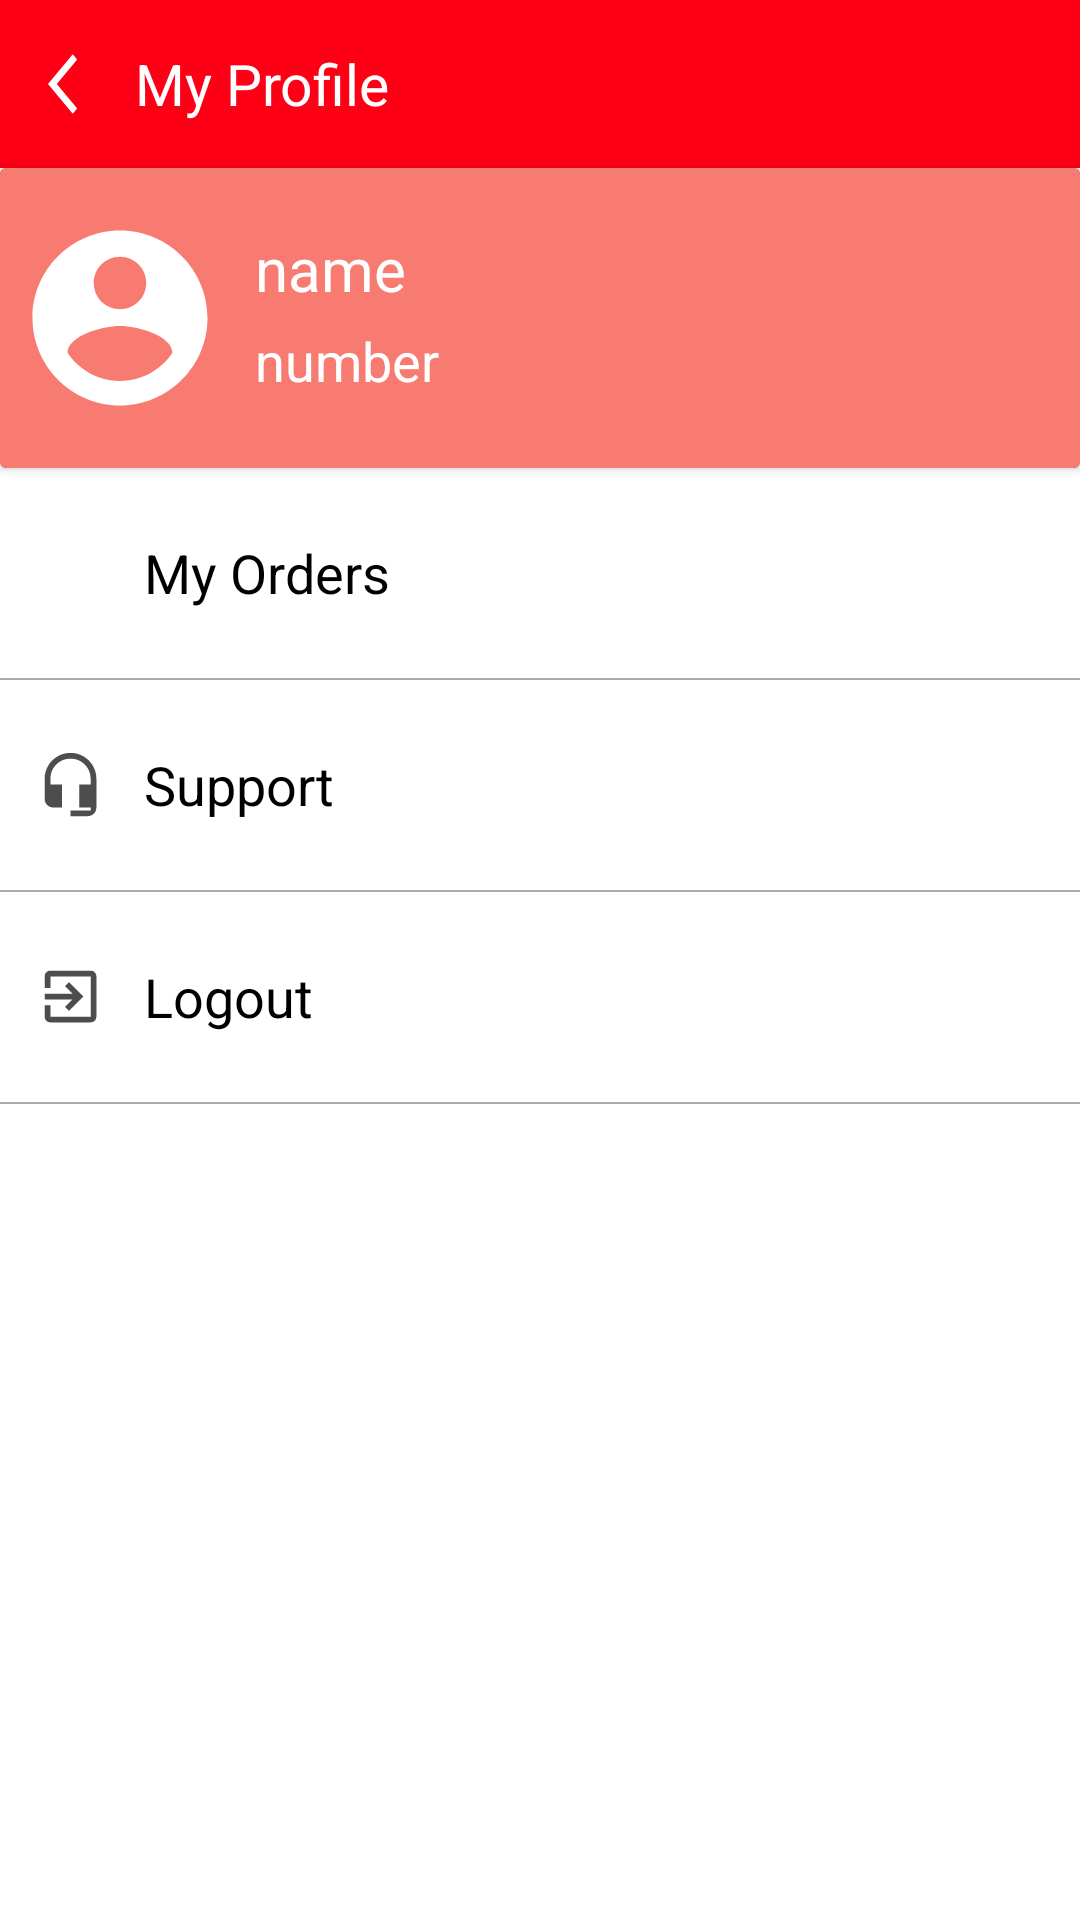

Point at icon controls on the screen. Image size 1080w x 1920h, points as point (x, y).
account circle: point (120, 318)
arrow back: point (62, 84)
exit to app: point (70, 996)
headset mic: point (70, 785)
